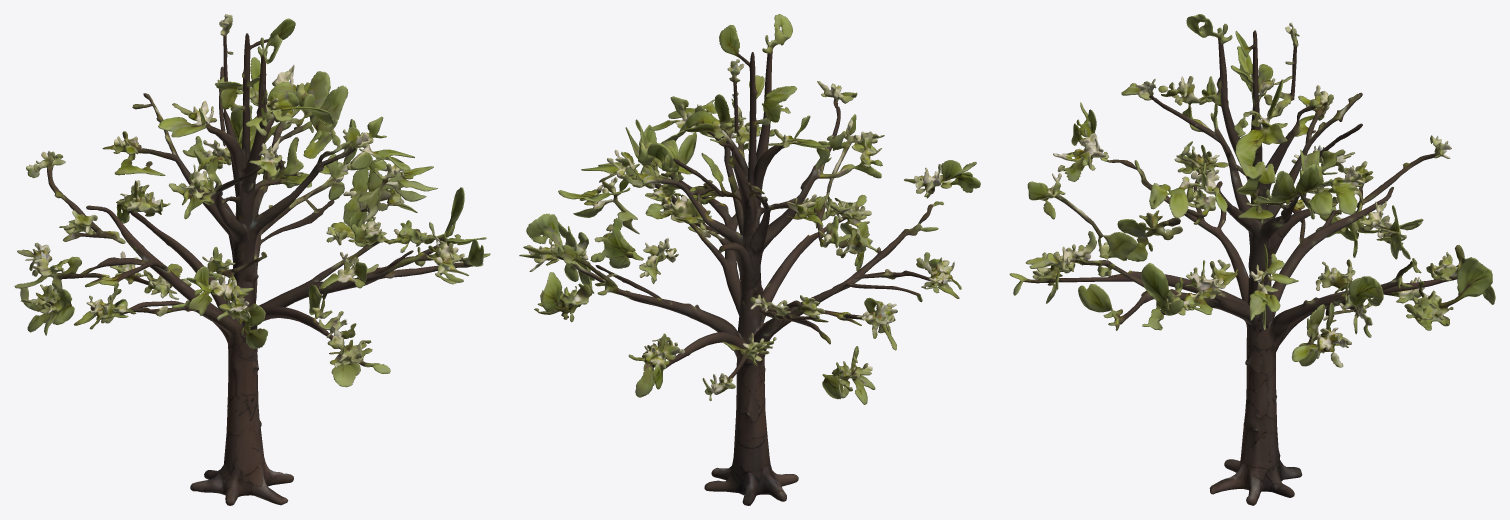
The model's file is nature-tree-spring.glb.
3 renders of one model, left to right at view 1: azimuth 30°, elevation 25°; view 2: azimuth 150°, elevation 25°; view 3: azimuth 270°, elevation 25°, orthographic. The views are drawn at different scales.
Visible parts, largest first — view 1: tripo_node_6ef91633-a6d2-4f17-9126-b20ad699bd3b; view 2: tripo_node_6ef91633-a6d2-4f17-9126-b20ad699bd3b; view 3: tripo_node_6ef91633-a6d2-4f17-9126-b20ad699bd3b.
Boxes of the visible parts, x1,y1,x2,y2 form: tripo_node_6ef91633-a6d2-4f17-9126-b20ad699bd3b: (14,14,490,505); tripo_node_6ef91633-a6d2-4f17-9126-b20ad699bd3b: (519,14,980,505); tripo_node_6ef91633-a6d2-4f17-9126-b20ad699bd3b: (1009,14,1495,505).
Size of the model in its own units: 6.01 by 7 by 6.51.
Materials: 1 (1 with a texture image).
